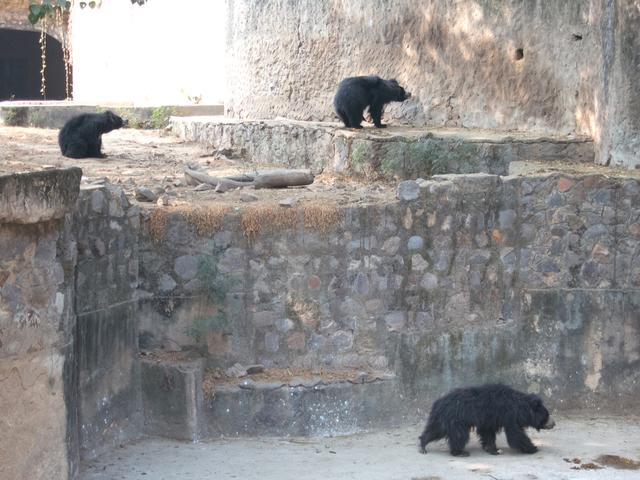Bear: (415, 389, 566, 452), (323, 64, 427, 137), (49, 105, 139, 154)
